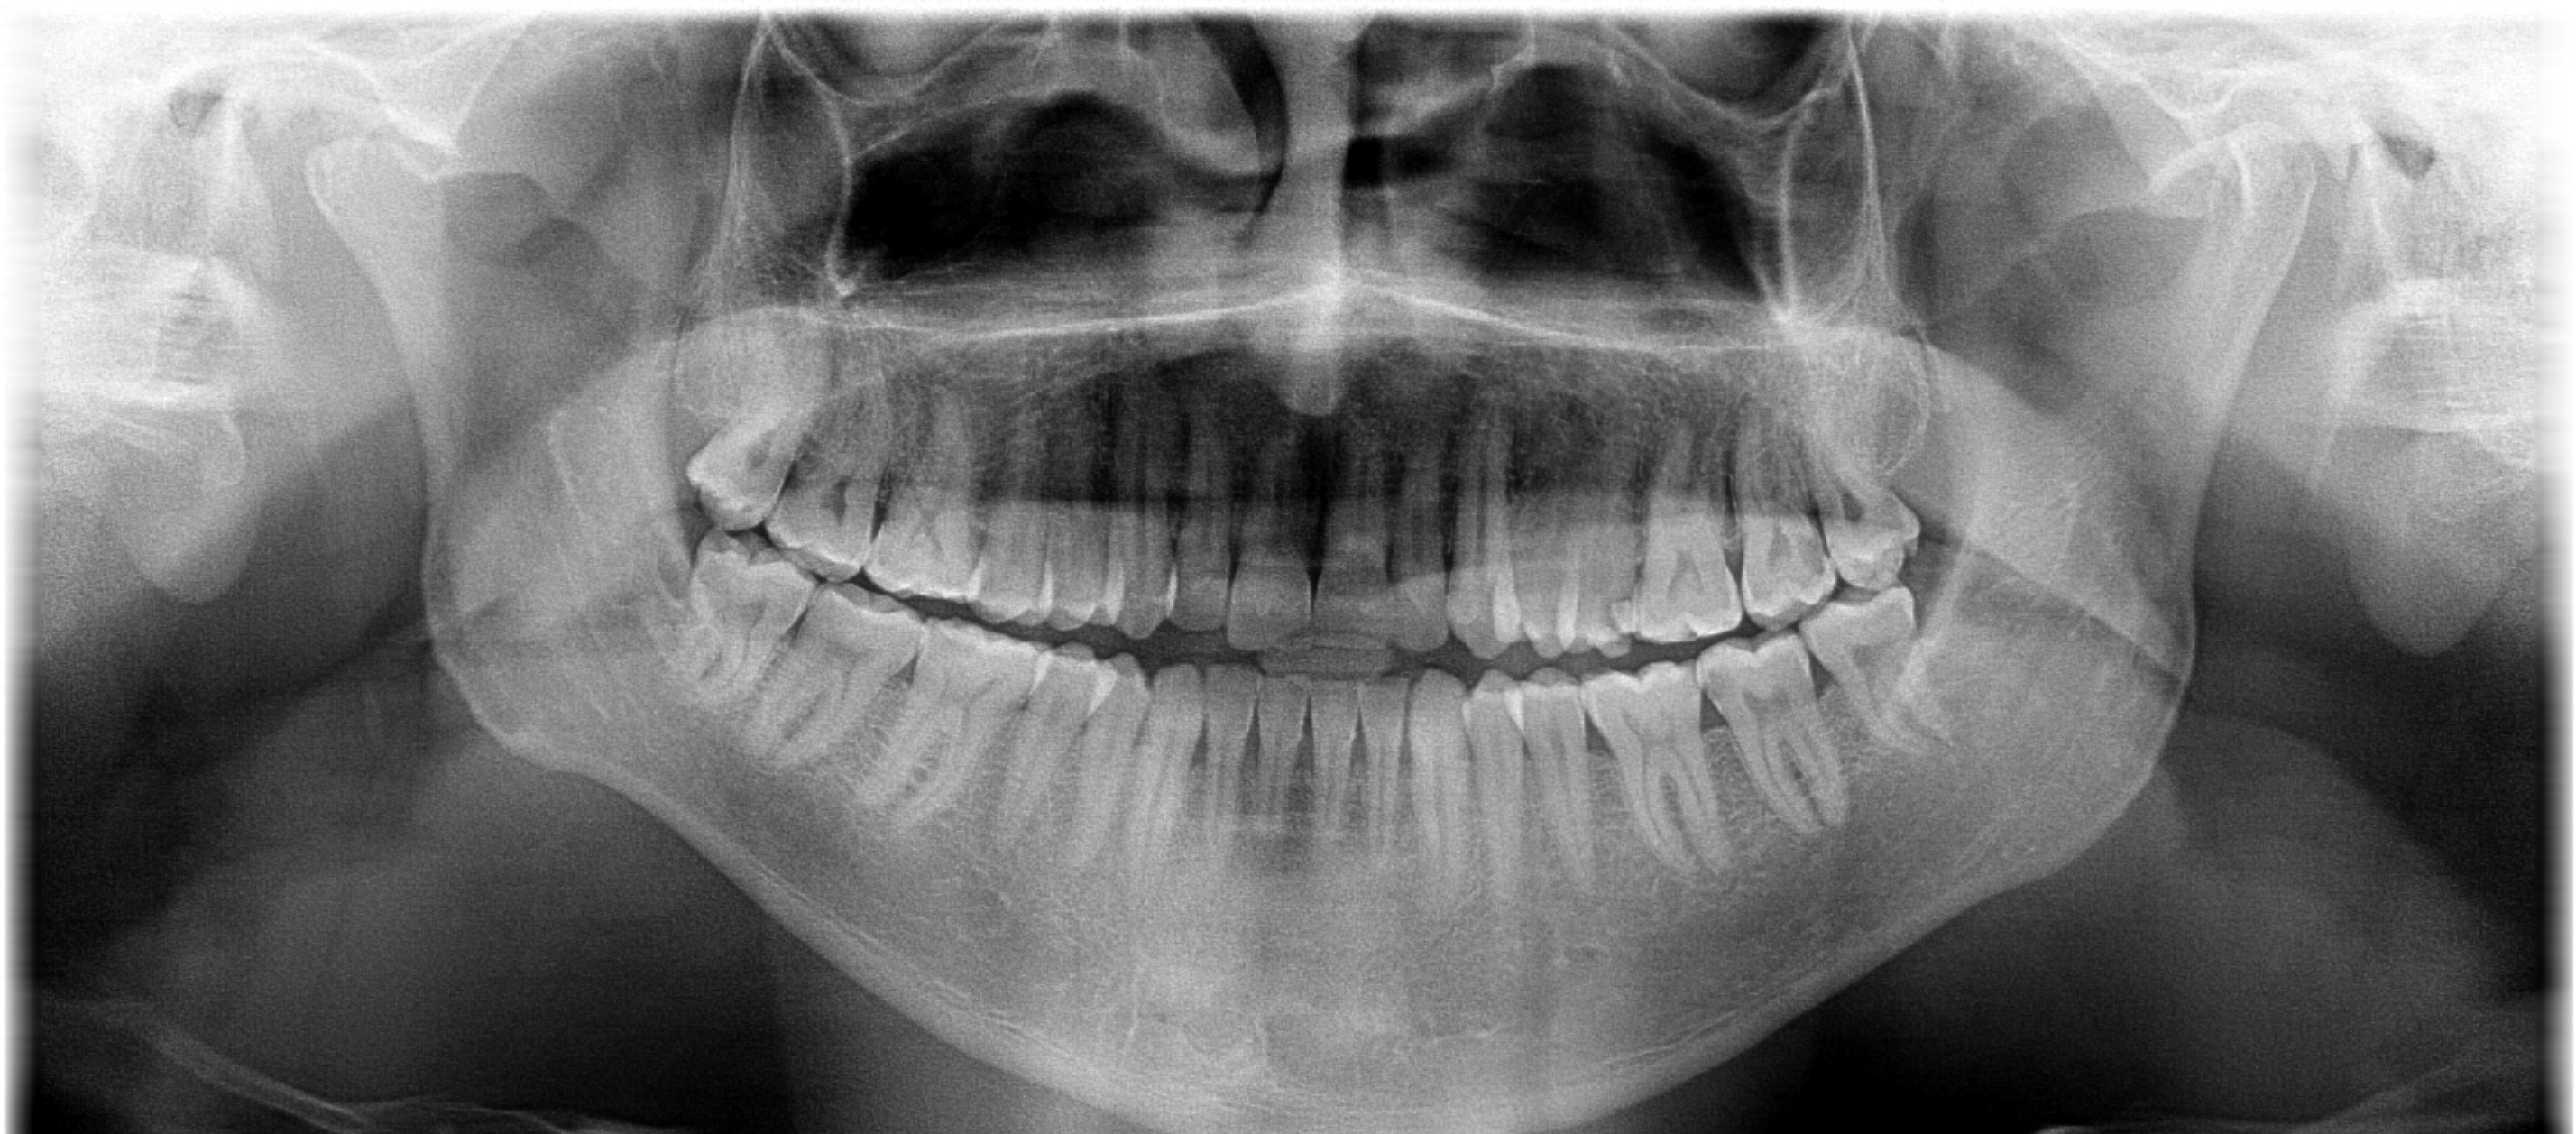cordal: (1781, 565, 1998, 772), (652, 508, 838, 705), (1791, 417, 1960, 587), (678, 362, 835, 542)
